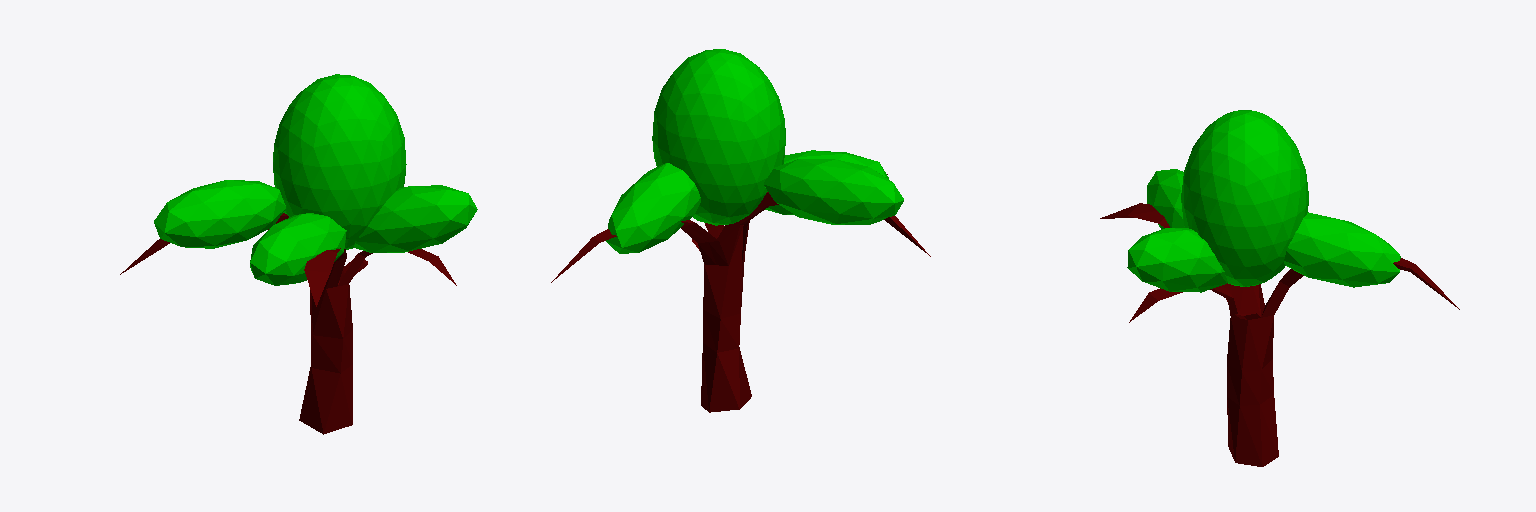
File: linusBaum.obj
The picture shows the model from 3 angles: view 1: azimuth 30°, elevation 25°; view 2: azimuth 150°, elevation 25°; view 3: azimuth 270°, elevation 25°; orthographic projection.
Parts seen in each view (by area): view 1: Icosphere.004, Circle_Circle.001, Icosphere.002, Icosphere, Icosphere.003; view 2: Icosphere.004, Circle_Circle.001, Icosphere.002, Icosphere.001, Icosphere.003; view 3: Icosphere.004, Circle_Circle.001, Icosphere.001, Icosphere, Icosphere.003.
Part boxes in pixels (left/top/right/bottom): Icosphere.004: left=273, top=74, right=406, bottom=249; Circle_Circle.001: left=120, top=213, right=456, bottom=434; Icosphere.002: left=154, top=180, right=285, bottom=248; Icosphere: left=354, top=185, right=477, bottom=252; Icosphere.003: left=250, top=213, right=346, bottom=285; Icosphere.004: left=652, top=49, right=785, bottom=225; Circle_Circle.001: left=551, top=174, right=930, bottom=412; Icosphere.002: left=764, top=159, right=903, bottom=224; Icosphere.001: left=606, top=163, right=700, bottom=253; Icosphere.003: left=765, top=150, right=888, bottom=215; Icosphere.004: left=1181, top=110, right=1308, bottom=286; Circle_Circle.001: left=1100, top=203, right=1459, bottom=466; Icosphere.001: left=1284, top=212, right=1400, bottom=287; Icosphere: left=1127, top=228, right=1227, bottom=292; Icosphere.003: left=1147, top=169, right=1184, bottom=229.
Bounding box in the file's own units: 10.37 × 11.5 × 10.85.